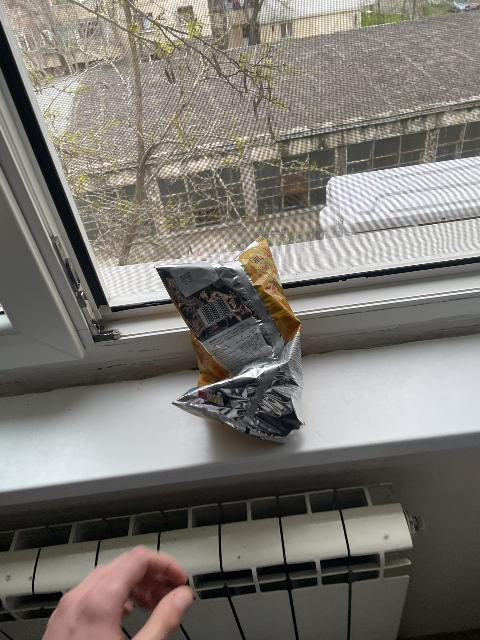Chio Hula Hoops Cheese 70g: (155, 245, 307, 438)
